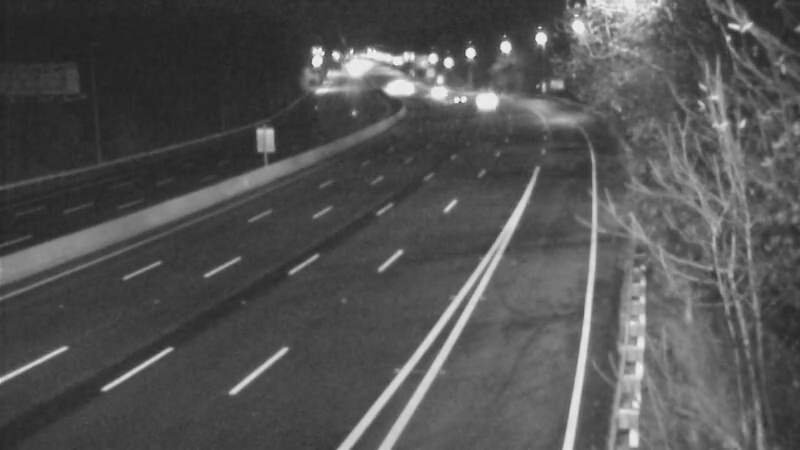vehicle: (365, 64, 415, 114), (411, 67, 461, 117), (428, 73, 478, 123), (459, 75, 509, 125)
